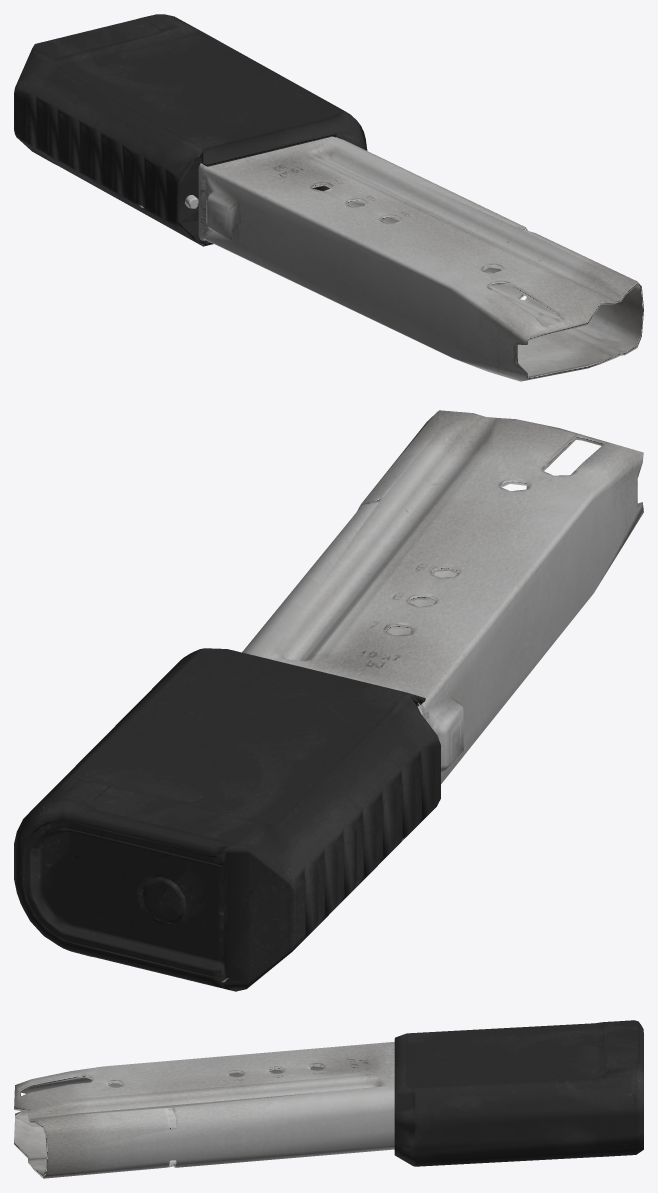
File: Mag44ExtLg_Ground.fbx
The picture shows the model from 3 angles, top to bottom: view 1: azimuth 30°, elevation 25°; view 2: azimuth 150°, elevation 25°; view 3: azimuth 270°, elevation 25°; orthographic projection. The views are drawn at different scales.
Visible parts, largest first — view 1: Mag44ExtLg; view 2: Mag44ExtLg; view 3: Mag44ExtLg.
Part boxes in pixels (left/top/right/bottom): Mag44ExtLg: left=14, top=14, right=643, bottom=381; Mag44ExtLg: left=14, top=410, right=643, bottom=991; Mag44ExtLg: left=14, top=1020, right=643, bottom=1178.
Size of the model in its own units: 0.0563 by 0.0217 by 0.1429.
